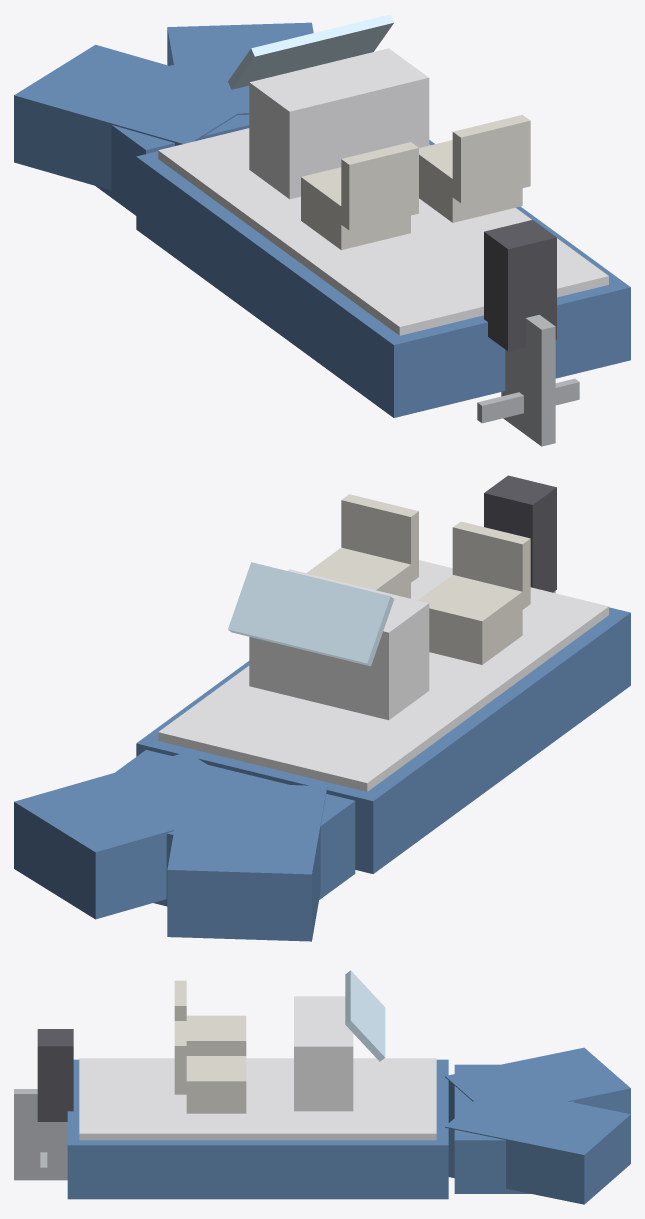
The model's file is boat.glb.
3 views of the same model, one above another, from view 1: azimuth 30°, elevation 25°; view 2: azimuth 150°, elevation 25°; view 3: azimuth 270°, elevation 25° (orthographic). The views are drawn at different scales.
Visible parts, largest first — view 1: Body; view 2: Body; view 3: Body.
Part boxes in pixels (x1,y1,x2,y2): Body: [14, 14, 630, 446]; Body: [14, 475, 630, 941]; Body: [14, 970, 630, 1204].
Bounding box in the file's own units: 2.14 × 1.69 × 5.18.
